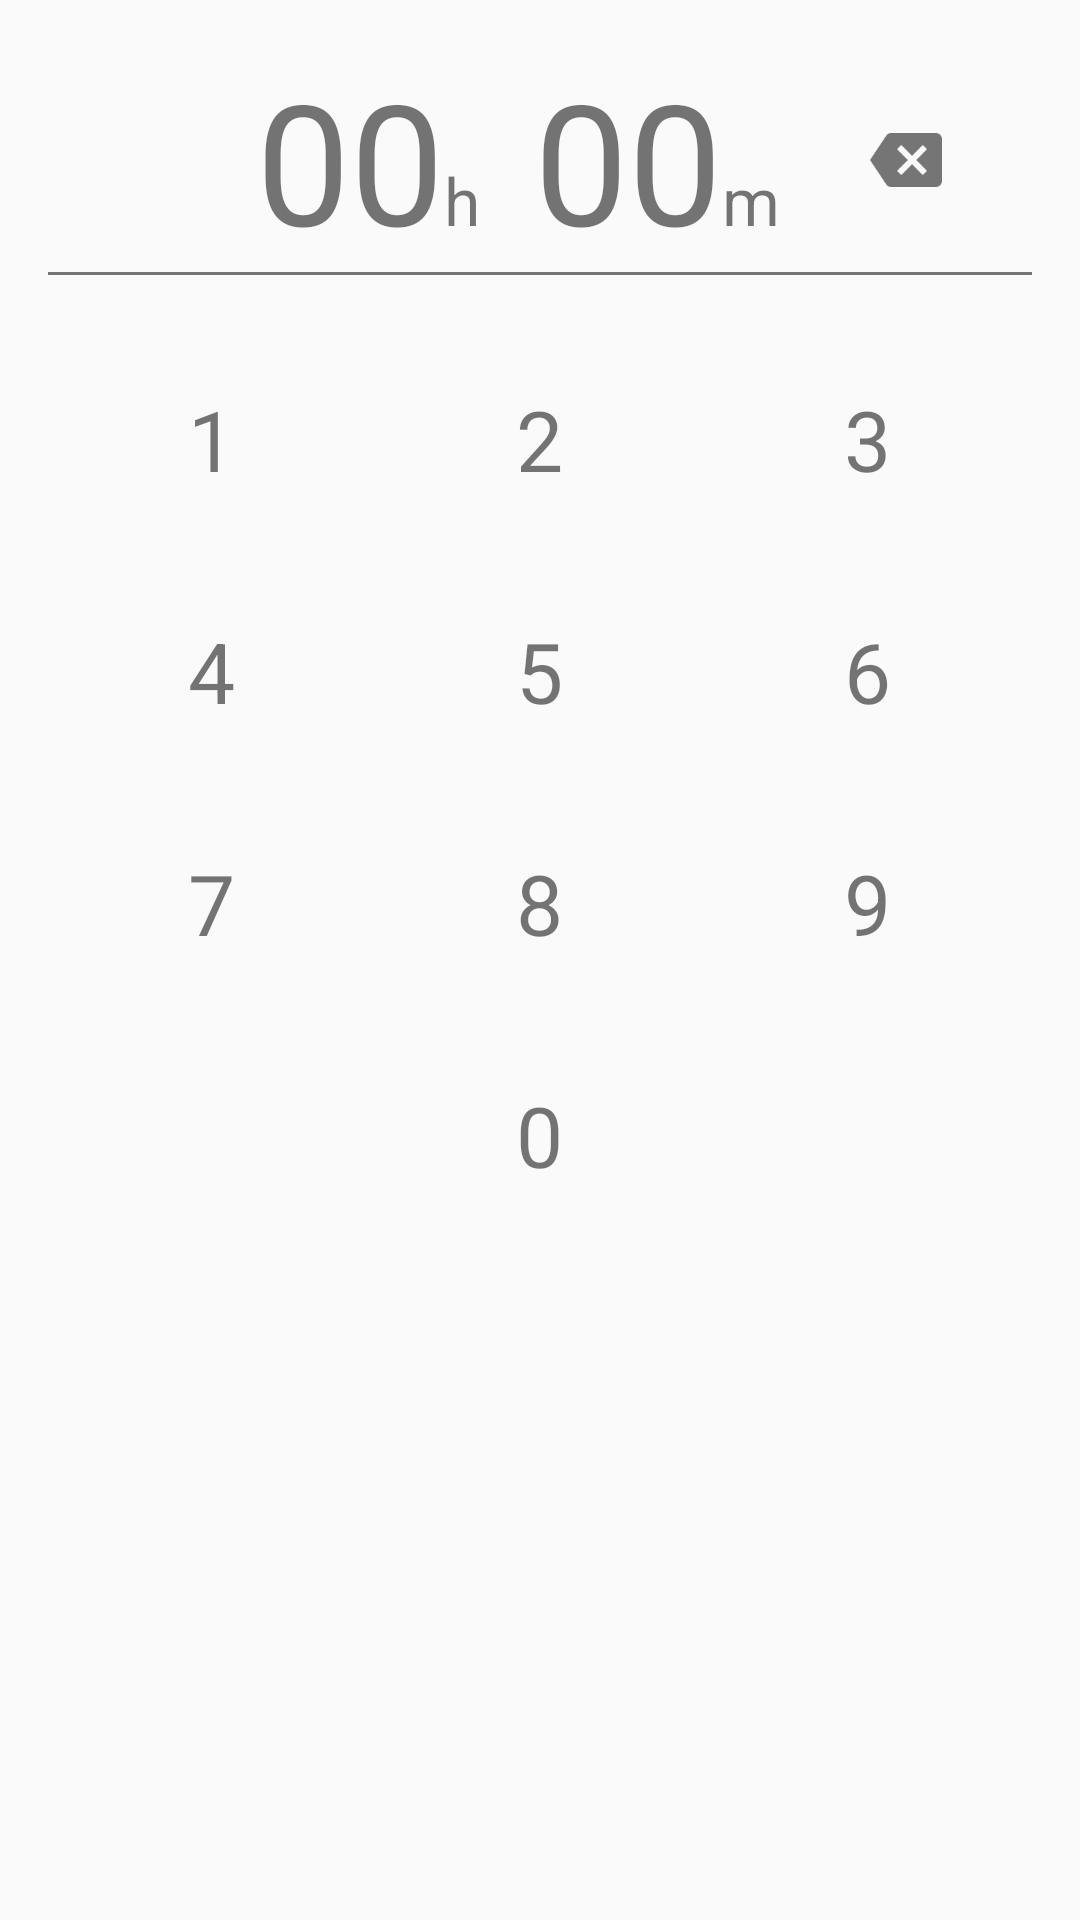

Point at icon controls on the screen. Image size 1080px x 1920px, points as (x=x, y=y).
backspace: (x=906, y=160)
